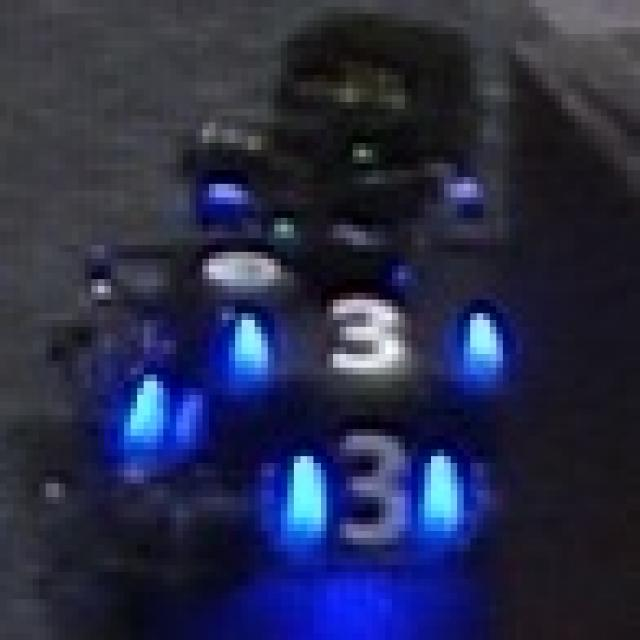B3: (255, 409, 490, 565), (209, 279, 509, 388)
